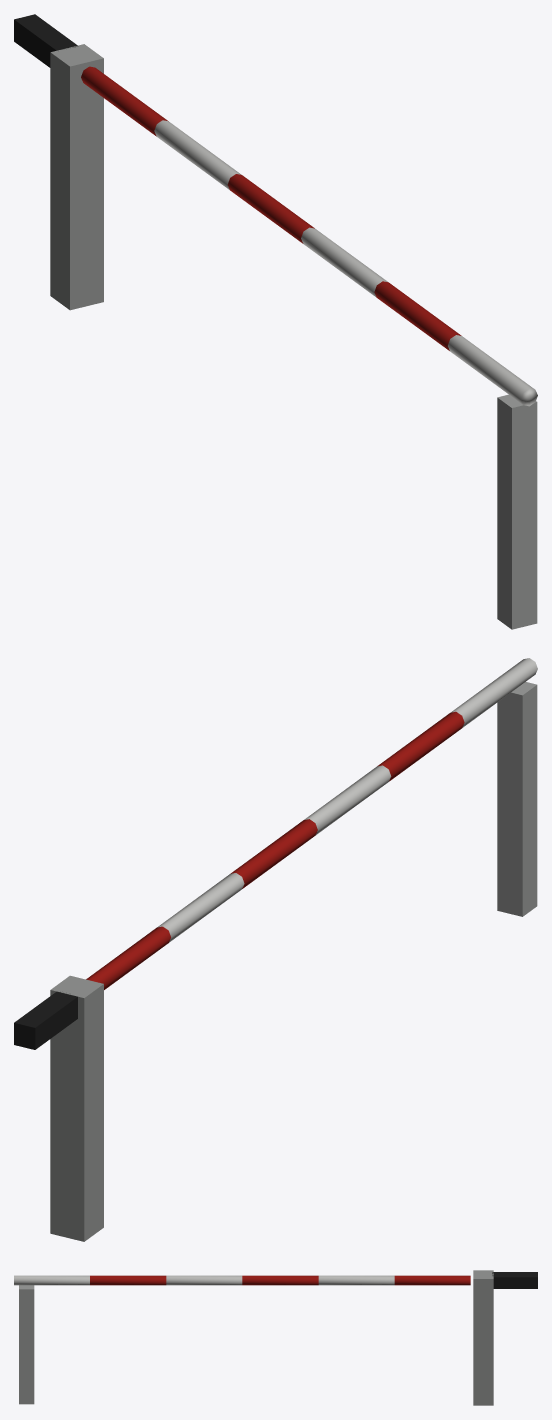
Rendered from SM_Prop_lift_gate_0.glb.
The picture shows the model from 3 angles, top to bottom: view 1: azimuth 30°, elevation 25°; view 2: azimuth 150°, elevation 25°; view 3: azimuth 270°, elevation 25°; orthographic projection. The views are drawn at different scales.
Parts seen in each view (by area): view 1: SM_Prop_lift_gate_0; view 2: SM_Prop_lift_gate_0; view 3: SM_Prop_lift_gate_0.
Part boxes in pixels (left/top/right/bottom): SM_Prop_lift_gate_0: left=14, top=14, right=537, bottom=629; SM_Prop_lift_gate_0: left=14, top=658, right=537, bottom=1241; SM_Prop_lift_gate_0: left=14, top=1270, right=537, bottom=1405.
Bounding box in the file's own units: 0.16 × 1.1 × 4.13.
